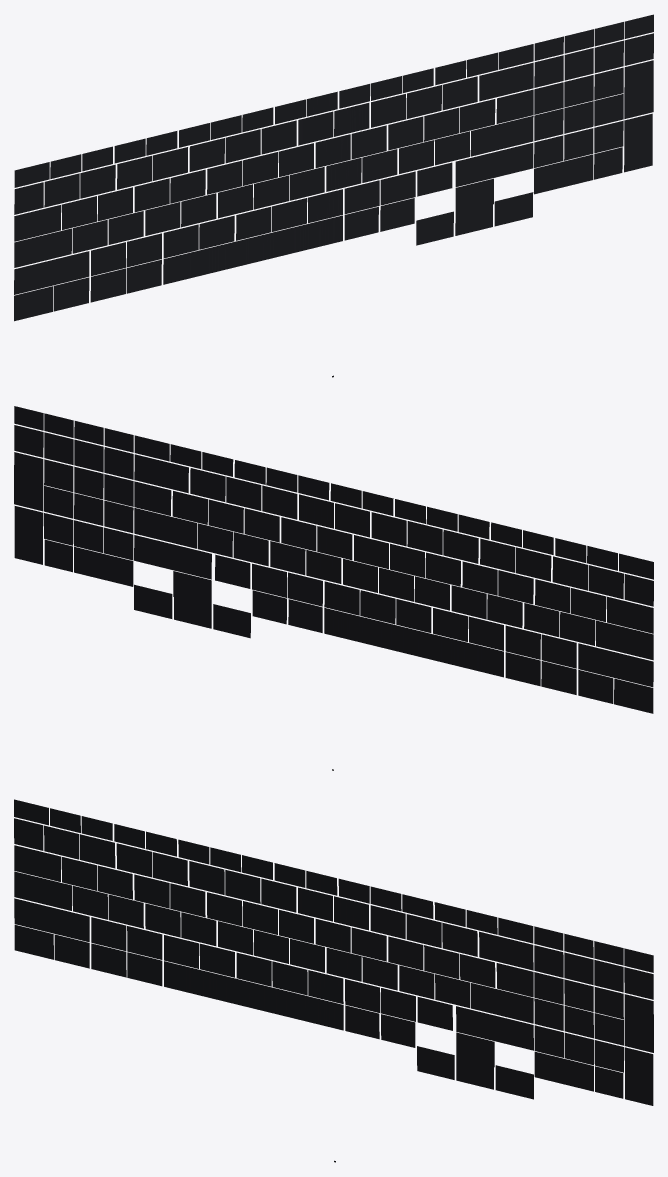
The model's file is body.obj.
The picture shows the model from 3 angles, top to bottom: view 1: azimuth 30°, elevation 25°; view 2: azimuth 150°, elevation 25°; view 3: azimuth 330°, elevation 25°; orthographic projection.
Parts seen in each view (by area): view 1: keys.001; view 2: keys.001; view 3: keys.001.
Part boxes in pixels (x1=…): keys.001: x1=14, y1=14, x2=653, y2=321; keys.001: x1=14, y1=406, x2=653, y2=713; keys.001: x1=14, y1=799, x2=653, y2=1105.
Size of the model in its own units: 121267 by 51784 by 418.
